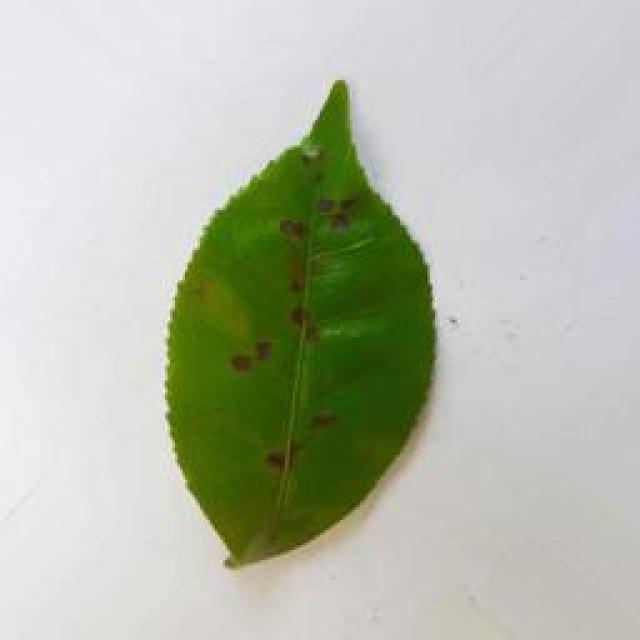Helopeltis: (160, 64, 442, 570)
